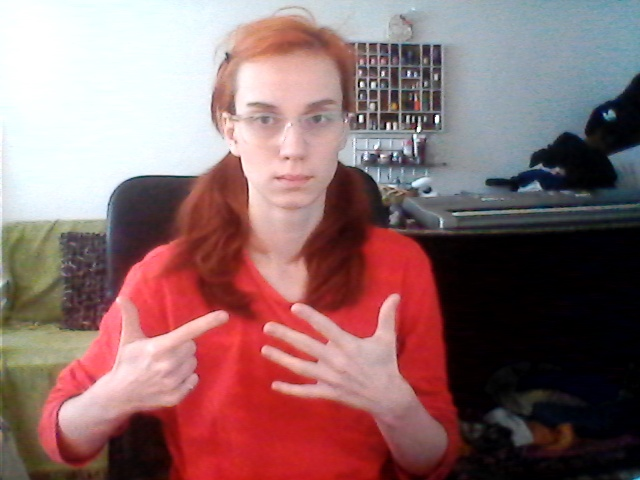sedem: (97, 286, 421, 414)
